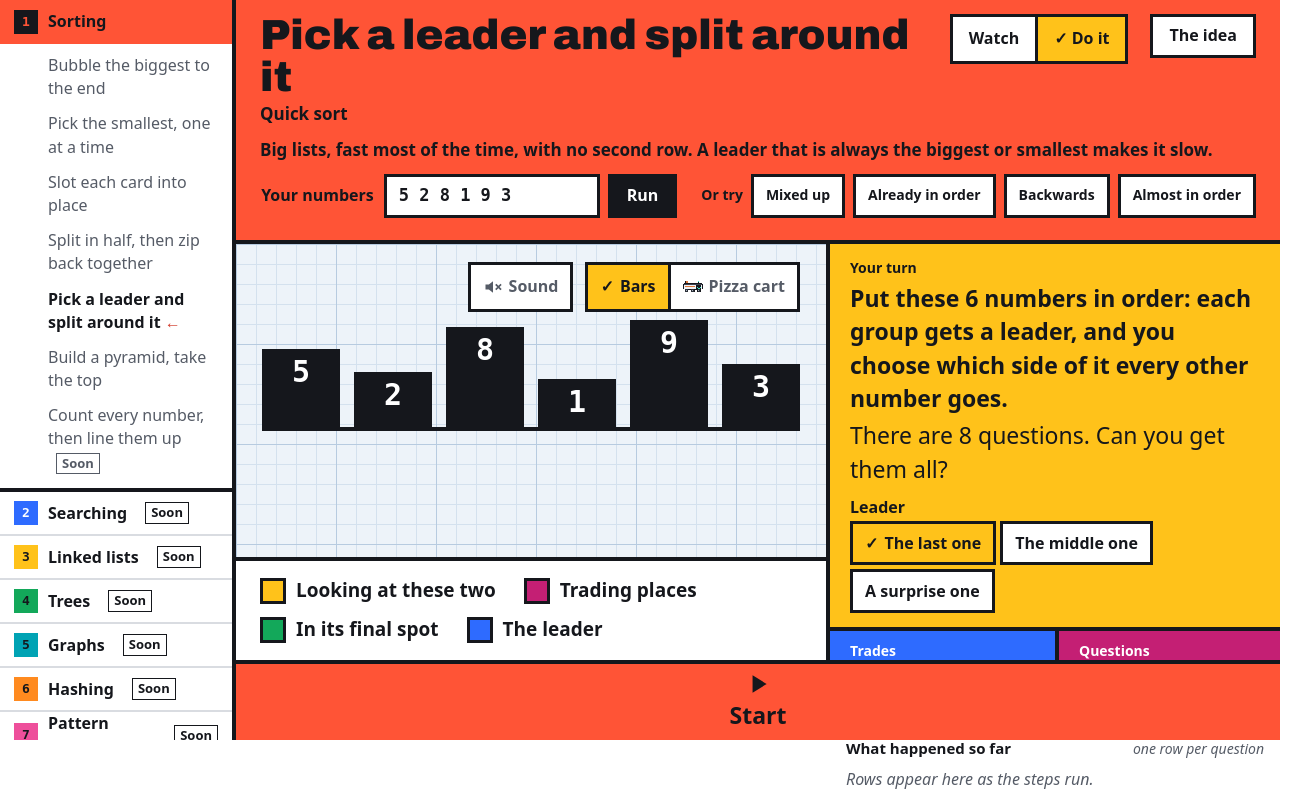
Test: quick sort: Do it › a wrong answer opens the nudge calmly and asks again
Click the button "Start". click: (758, 702)
box: [236,664,1280,740]
Wait 4000 ms
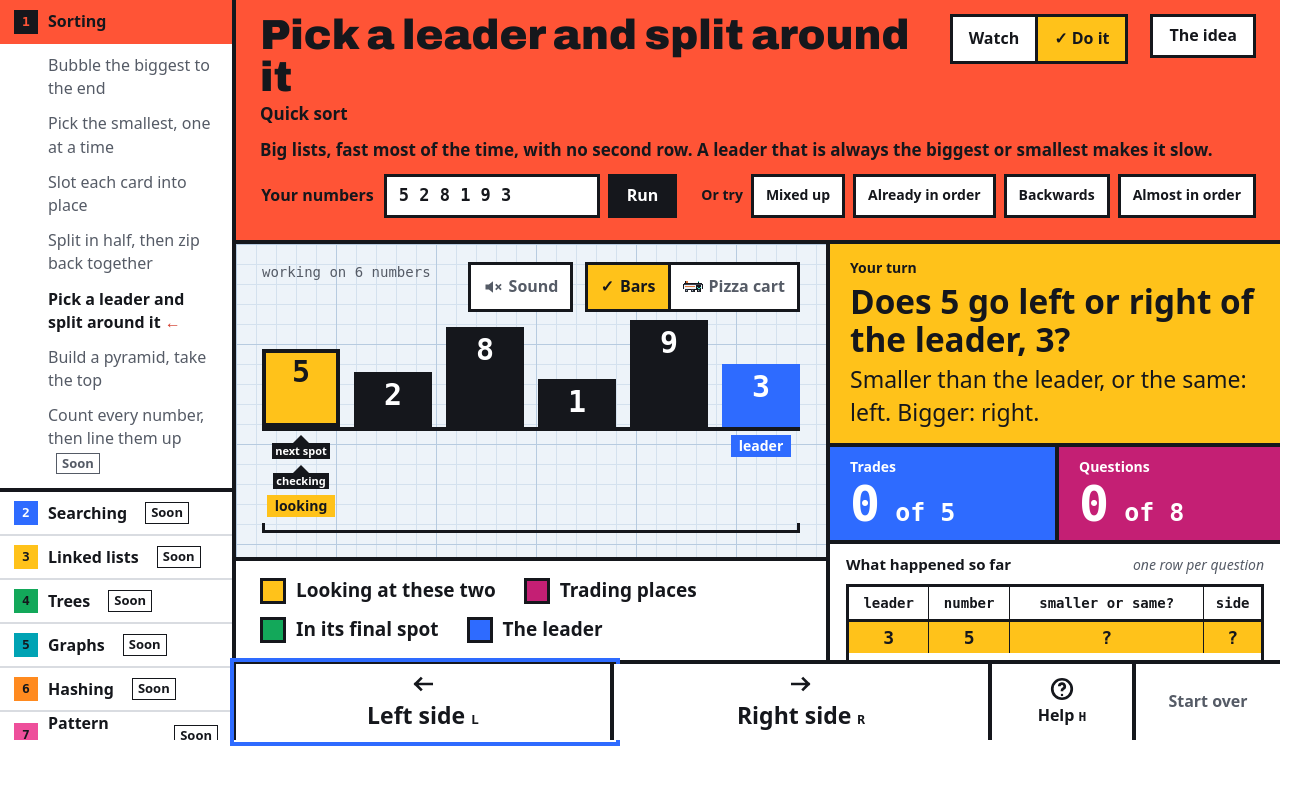
Type keys "l"
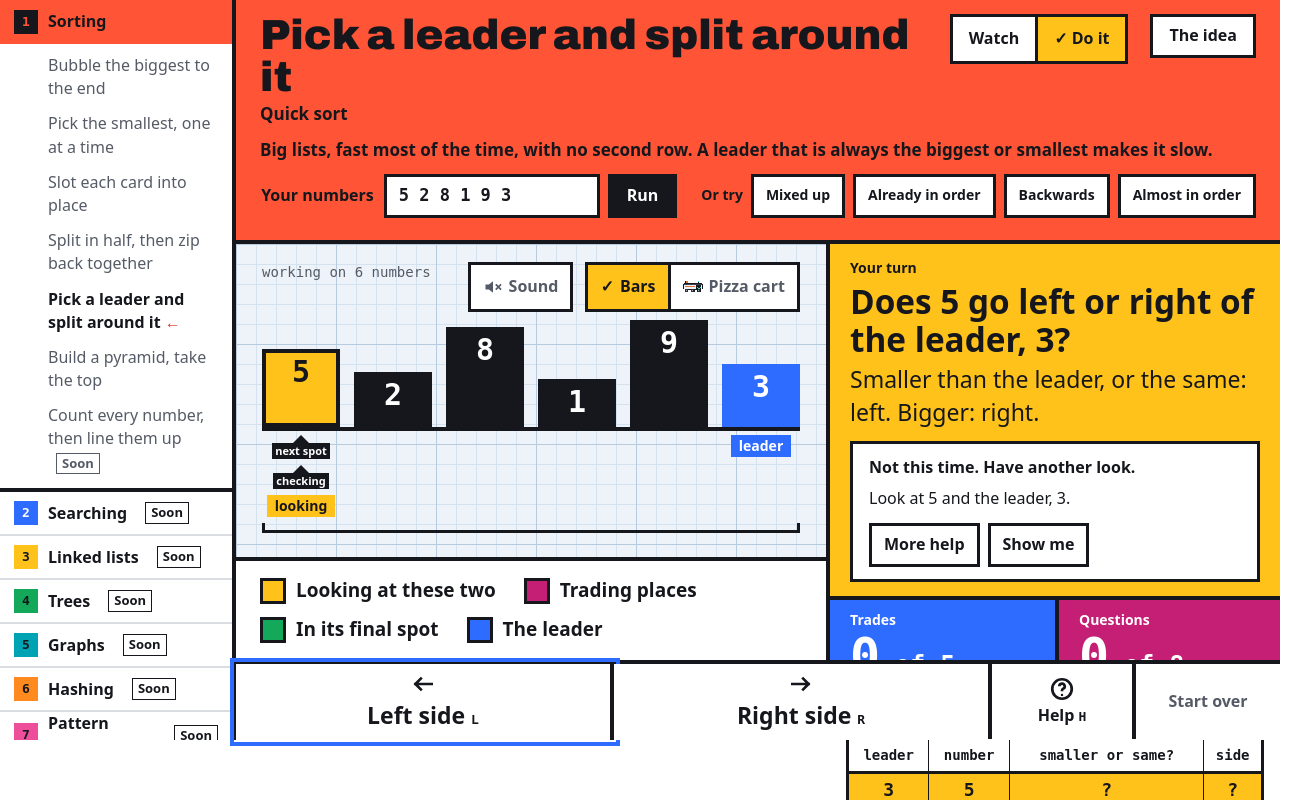
Result: the text with class "do-it-question" reads "Does 5 go left or right of the leader, 3?" at [850,278,1254,362]
Result: the element with class "do-it-panel" shows "Not this time. Have another look." at [869,456,1135,478]
Type keys "R"
Wait 2000 ms
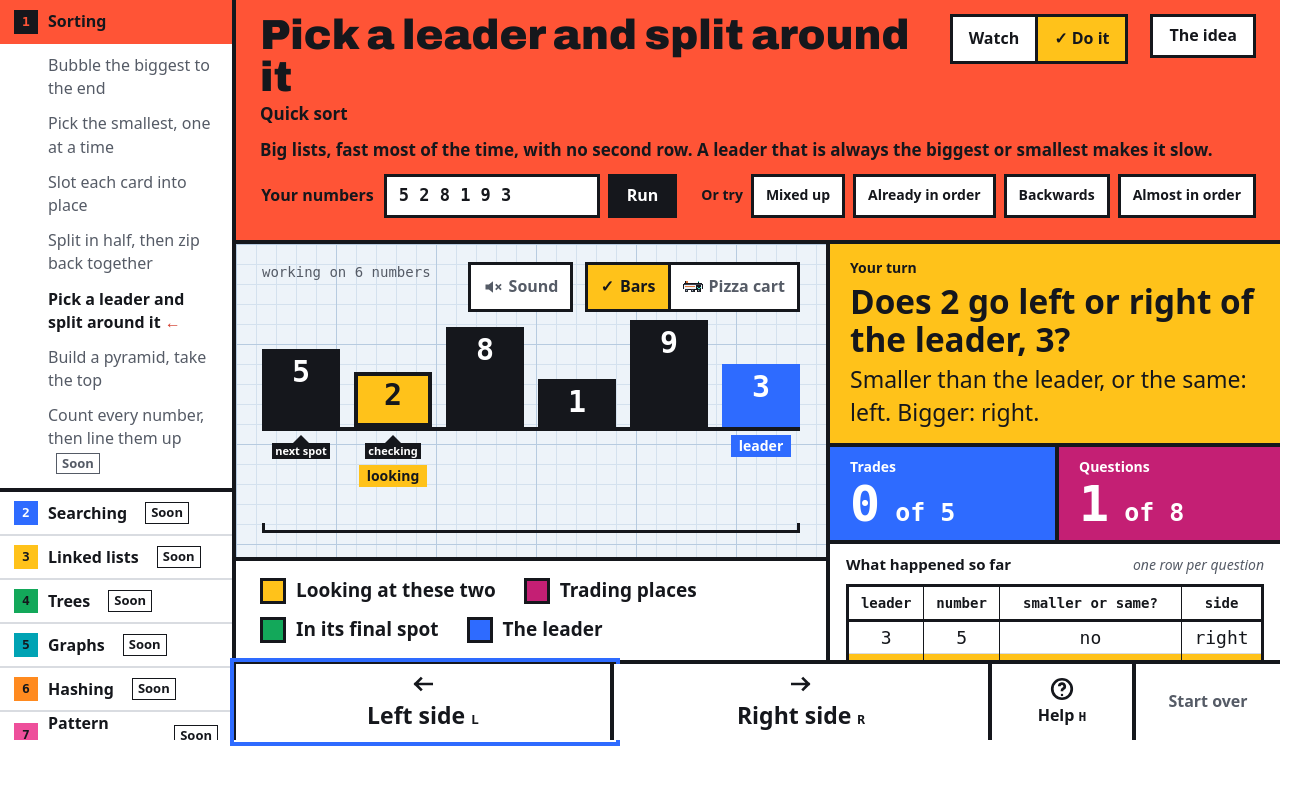
Result: the text with class "do-it-question" reads "Does 2 go left or right of the leader, 3?" at [850,278,1254,362]
